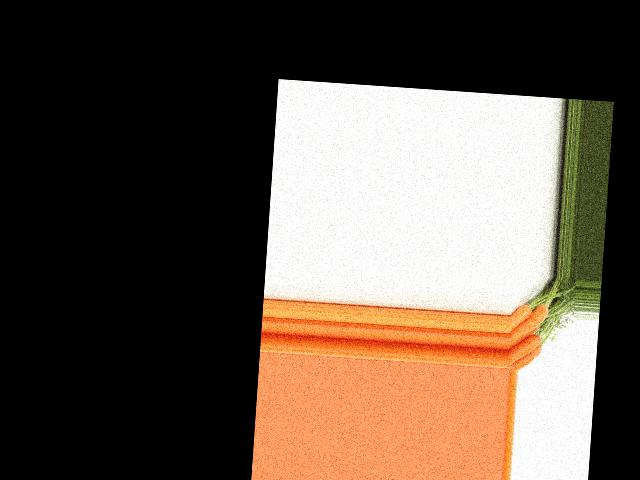carrot: (508, 303, 533, 333)
